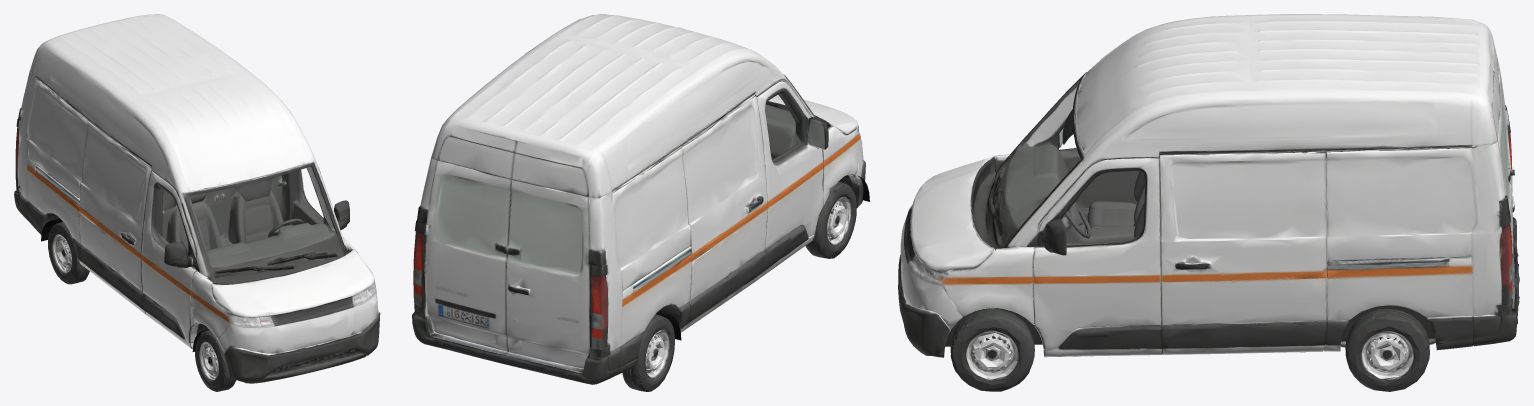
File: car_van.glb
The picture shows the model from 3 angles, left to right: view 1: azimuth 30°, elevation 25°; view 2: azimuth 150°, elevation 25°; view 3: azimuth 270°, elevation 25°; orthographic projection. The views are drawn at different scales.
Visible parts, largest first — view 1: body, wheel_FR, wheel_RR; view 2: body, wheel_RR, wheel_FR; view 3: body, wheel_RL, wheel_FL.
Boxes of the visible parts, left/top/right/bottom form: body: left=14, top=14, right=380, bottom=391; wheel_FR: left=198, top=333, right=236, bottom=391; wheel_RR: left=48, top=222, right=77, bottom=283; body: left=412, top=14, right=865, bottom=384; wheel_RR: left=622, top=314, right=674, bottom=391; wheel_FR: left=827, top=177, right=860, bottom=253; body: left=898, top=14, right=1519, bottom=391; wheel_RL: left=1348, top=308, right=1429, bottom=391; wheel_FL: left=939, top=308, right=1020, bottom=390.
Size of the model in its own units: 2.45 by 2.78 by 5.3.
2 materials, 1 textured.
